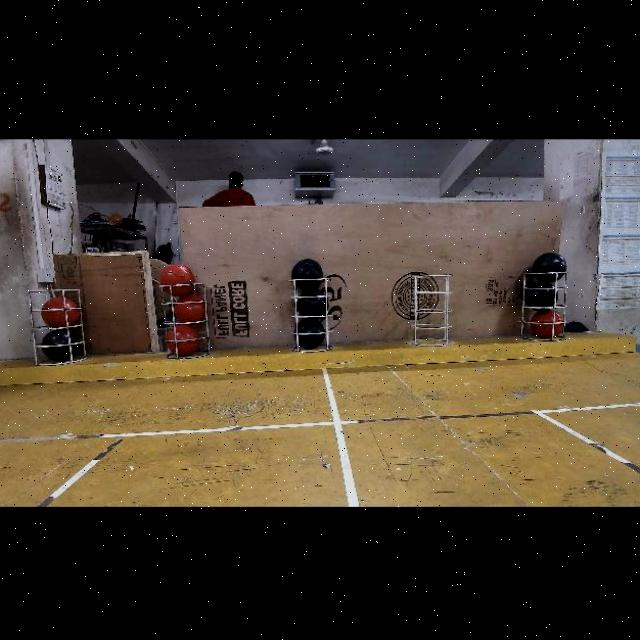P: (42, 331, 76, 363), (533, 253, 567, 282), (291, 259, 323, 289), (297, 290, 329, 318), (296, 319, 324, 349), (526, 284, 558, 310)
R: (159, 263, 195, 298), (41, 297, 79, 329), (532, 312, 564, 341), (167, 326, 197, 356), (176, 296, 204, 324)
S: (29, 284, 91, 370), (404, 266, 456, 348), (160, 278, 212, 360), (516, 268, 570, 344), (294, 274, 330, 352)
